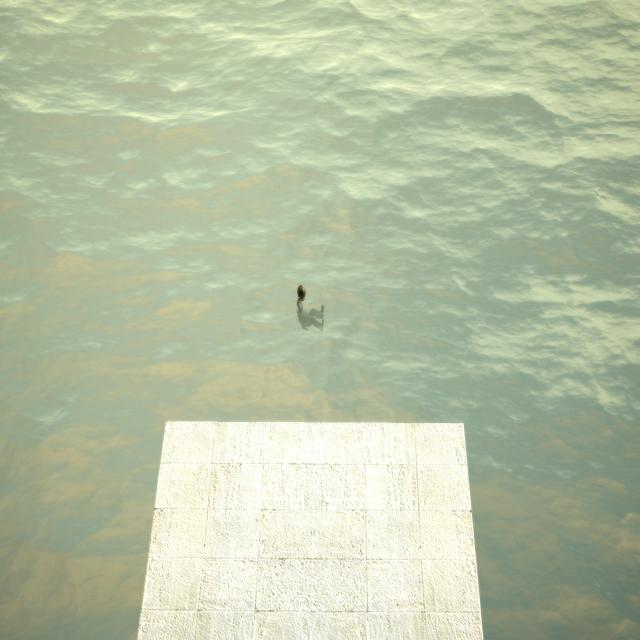Human: (293, 283, 325, 331)
